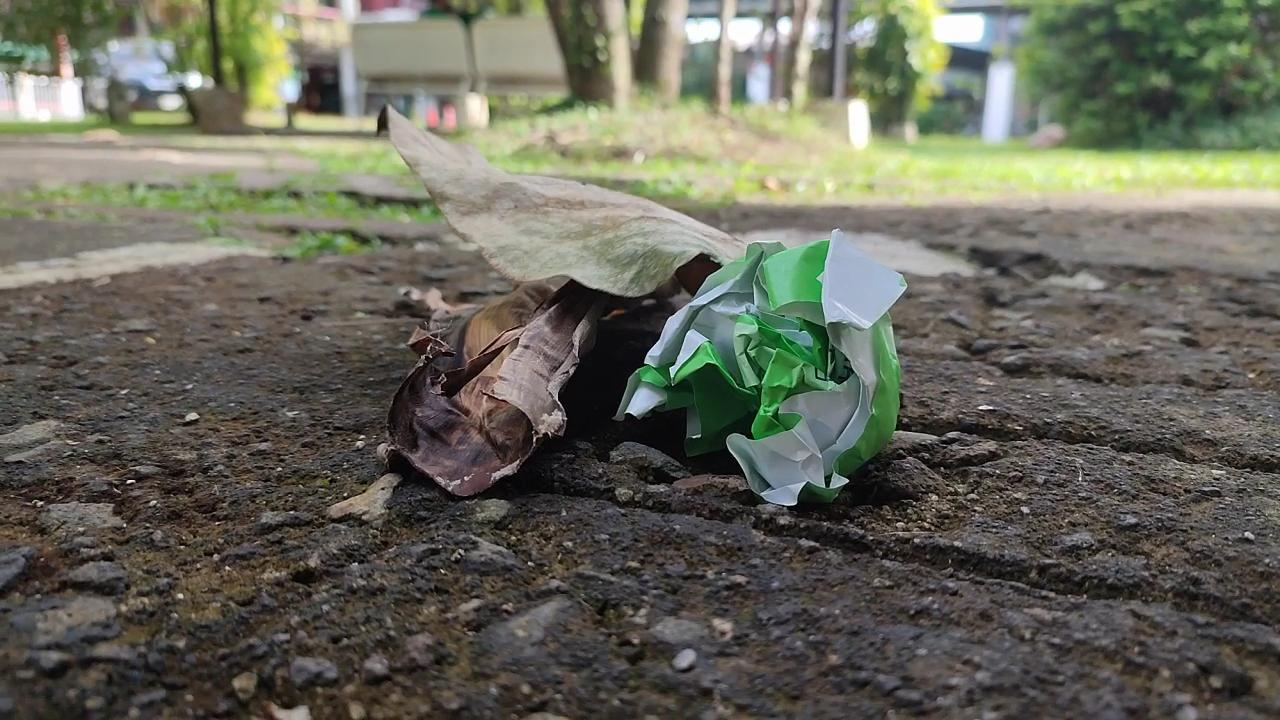Paper: (602, 217, 906, 511)
